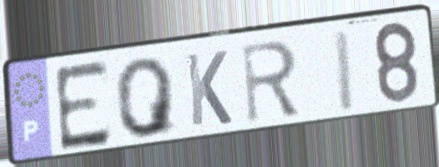8: (372, 19, 421, 108)
E: (51, 57, 114, 156)
I: (332, 26, 359, 116)
K: (183, 48, 235, 130)
Q: (113, 54, 180, 141)
R: (239, 37, 304, 127)
